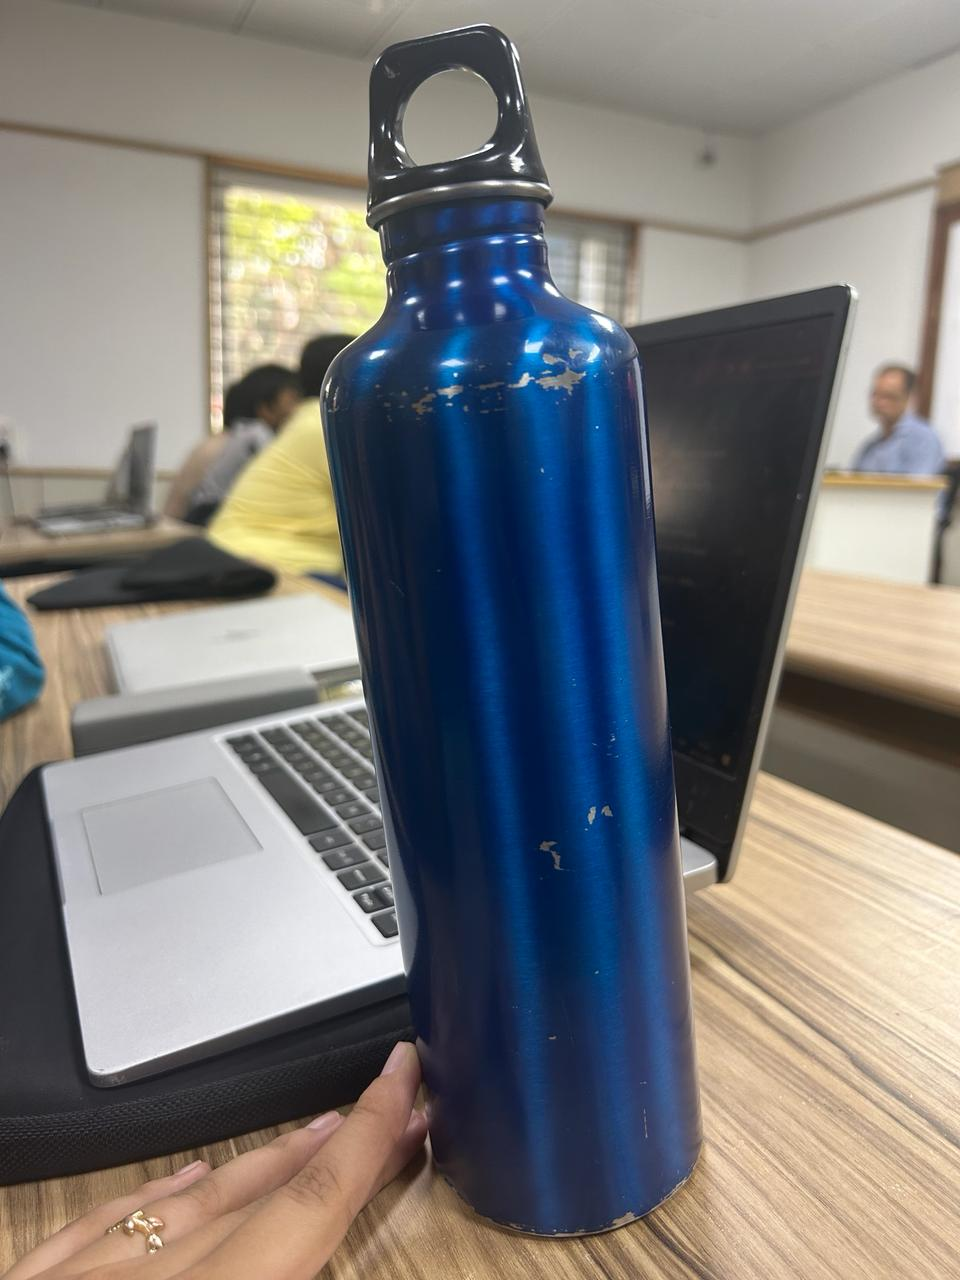bottle: (316, 19, 709, 1243)
